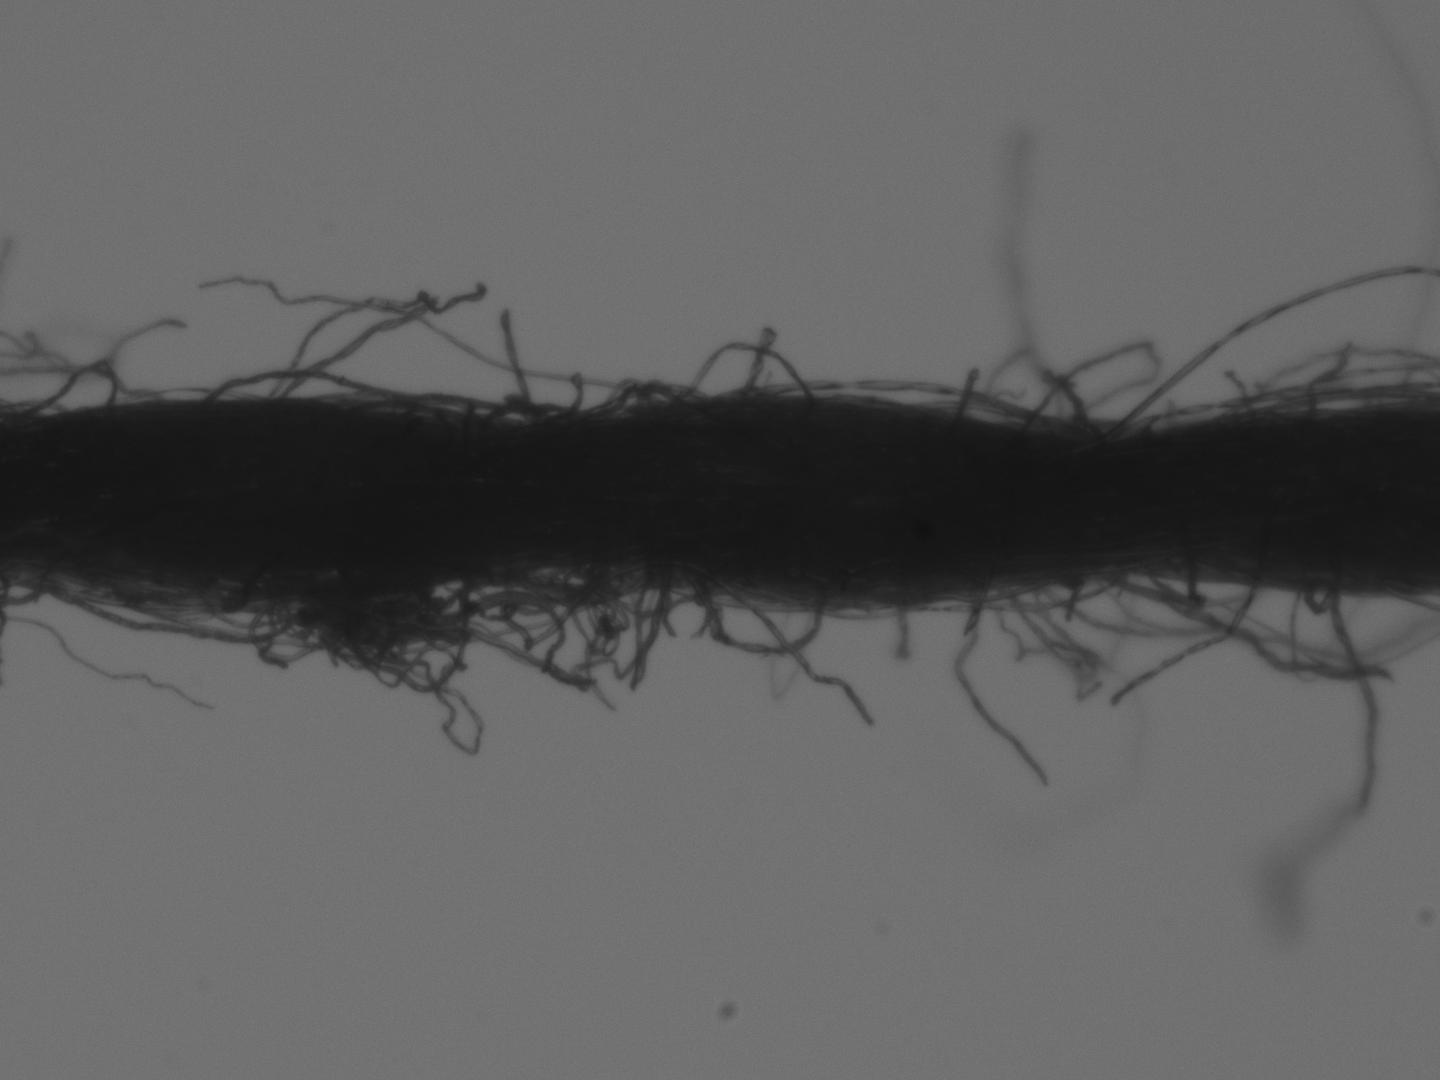loop_fiber: (276, 576, 472, 697), (198, 365, 485, 433), (37, 579, 297, 646), (674, 552, 833, 657), (1017, 331, 1162, 440), (500, 557, 652, 655), (653, 336, 822, 419), (8, 357, 119, 421), (557, 379, 700, 427), (1101, 569, 1252, 607), (1296, 581, 1337, 613)
protruding_fiber: (950, 590, 1051, 791), (952, 360, 981, 428)
